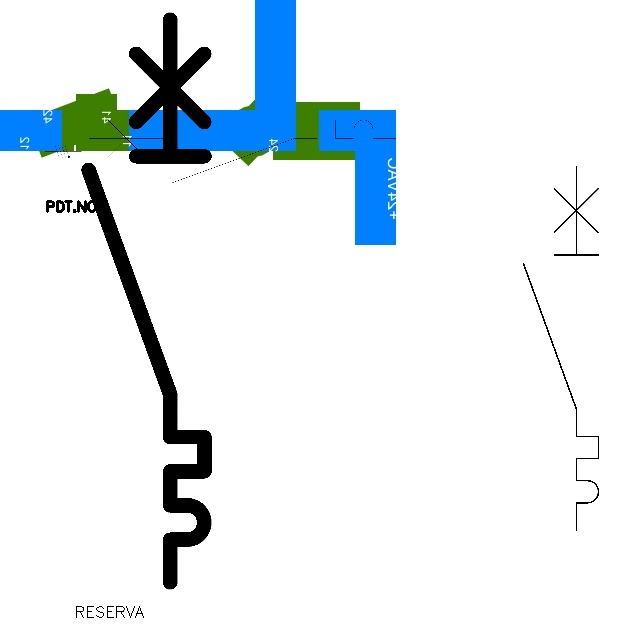interruptor_termomagnetico: (74, 5, 219, 597), (514, 157, 608, 540), (81, 112, 403, 191)
